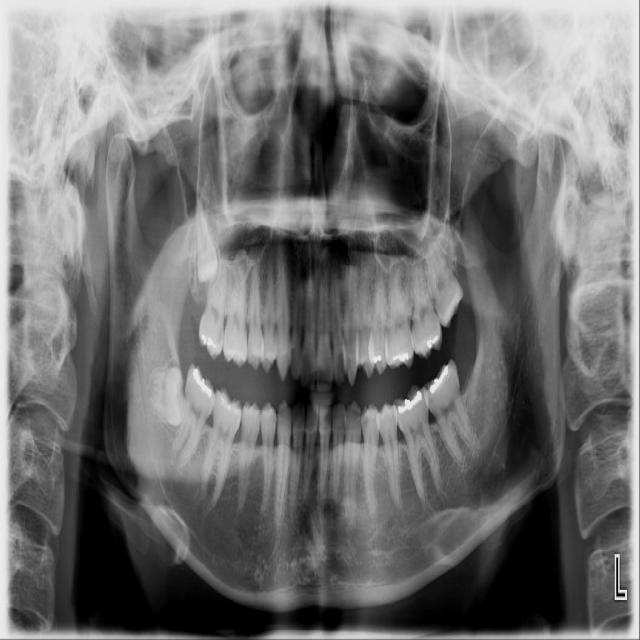Filling: (398, 390, 422, 414), (193, 368, 212, 397), (430, 366, 448, 394), (392, 353, 409, 362), (207, 337, 216, 348), (373, 354, 382, 364), (201, 334, 206, 345), (426, 339, 432, 348), (432, 335, 438, 344)
impacted tooth: (140, 366, 185, 426), (193, 198, 220, 279)
